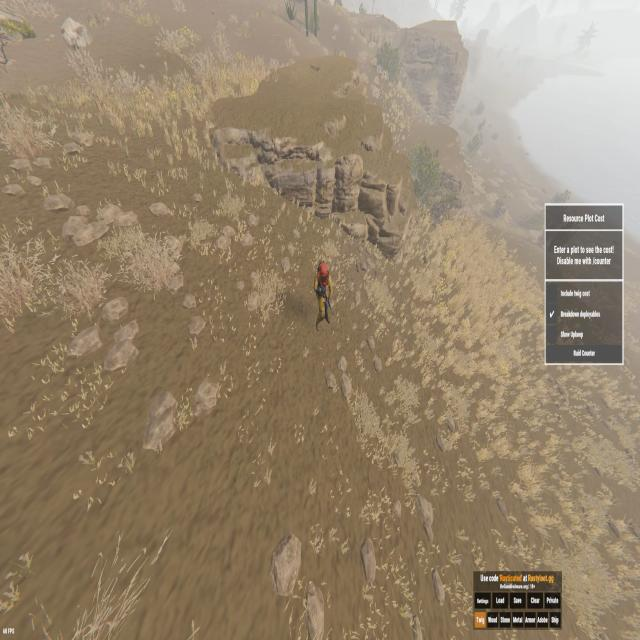Player: (313, 259, 333, 330)
